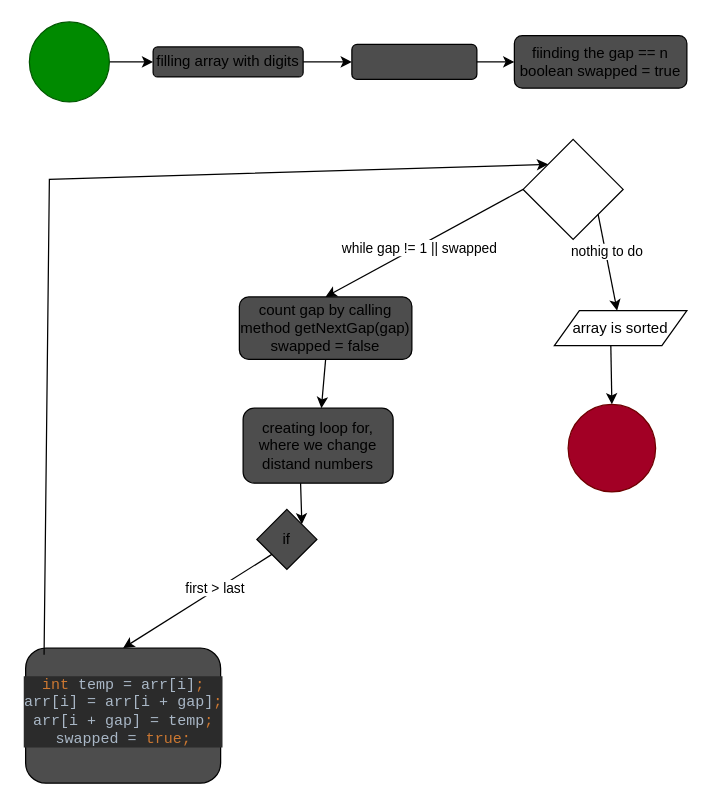
This 709x805 diagram has some shape labels left out. The shapes that lost their labels are listed below. From the top down, each one's box as (x1, y1, x2, y2) in pixels, then its label:
(28, 21, 109, 102): start programm
(351, 43, 477, 79): calling method combSort(array)
(522, 138, 623, 239): while
(567, 403, 656, 492): finish programm
